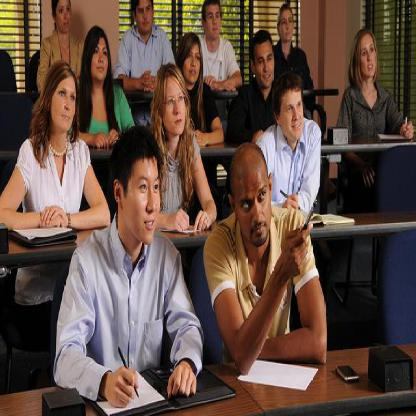person: (57, 130, 203, 390), (214, 154, 338, 365), (0, 70, 115, 228), (142, 60, 228, 229), (261, 81, 335, 211), (331, 24, 404, 140), (233, 27, 306, 138), (74, 26, 137, 136), (259, 1, 325, 94), (172, 35, 229, 121), (191, 1, 241, 81), (117, 1, 168, 76), (45, 1, 87, 72)
